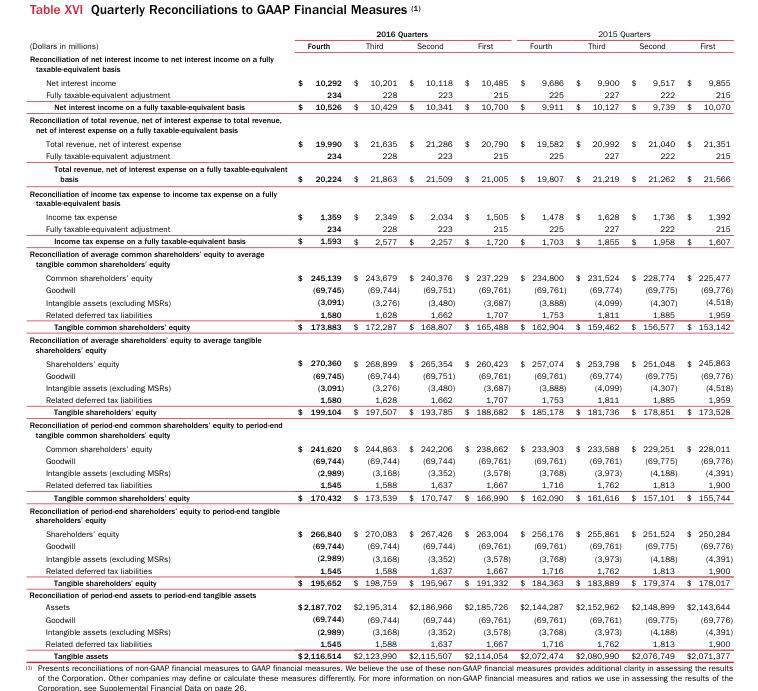table: (28, 28, 732, 660)
table column: (28, 28, 291, 660), (291, 28, 347, 660), (347, 28, 403, 660), (458, 28, 514, 660), (569, 28, 625, 660), (625, 28, 681, 660), (403, 28, 458, 660), (514, 28, 569, 660), (681, 28, 732, 660)
table column header: (28, 28, 732, 52)
table projected row header: (28, 185, 732, 209), (28, 417, 732, 441), (28, 52, 732, 75), (28, 113, 732, 136), (28, 247, 732, 270), (28, 332, 732, 355), (28, 503, 732, 526), (28, 588, 732, 600)
table row: (28, 161, 732, 185), (28, 185, 732, 209), (28, 417, 732, 441), (28, 52, 732, 75), (28, 113, 732, 136), (28, 247, 732, 270), (28, 332, 732, 355), (28, 503, 732, 526), (28, 39, 732, 52), (28, 75, 732, 88), (28, 100, 732, 113), (28, 136, 732, 149), (28, 209, 732, 222), (28, 234, 732, 247), (28, 270, 732, 283), (28, 319, 732, 332), (28, 355, 732, 368), (28, 380, 732, 393), (28, 441, 732, 454), (28, 490, 732, 503), (28, 526, 732, 539), (28, 563, 732, 576), (28, 624, 732, 637), (28, 88, 732, 100), (28, 149, 732, 161), (28, 222, 732, 234), (28, 283, 732, 295), (28, 295, 732, 307), (28, 307, 732, 319), (28, 368, 732, 380), (28, 393, 732, 405), (28, 405, 732, 417), (28, 454, 732, 466), (28, 466, 732, 478), (28, 478, 732, 490), (28, 539, 732, 551), (28, 551, 732, 563), (28, 576, 732, 588), (28, 588, 732, 600), (28, 600, 732, 612), (28, 612, 732, 624), (28, 637, 732, 649), (28, 28, 732, 39), (28, 649, 732, 660)
table spanning cell: (28, 28, 291, 52), (291, 28, 514, 39), (514, 28, 732, 39)
